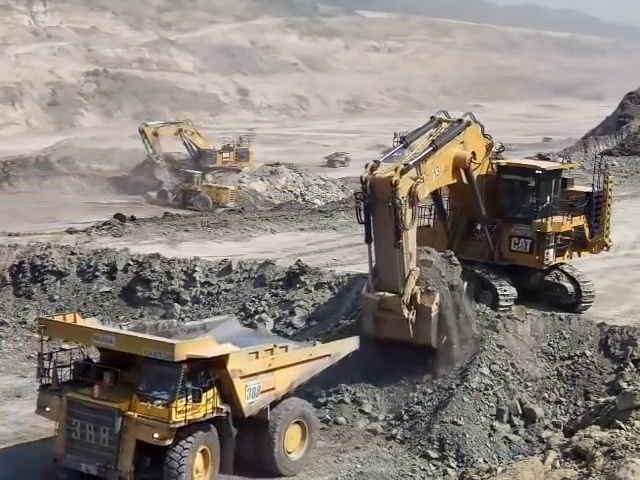dumper: (32, 312, 365, 479)
excavator: (356, 109, 615, 353), (137, 118, 255, 182)
roller: (157, 169, 233, 214)
